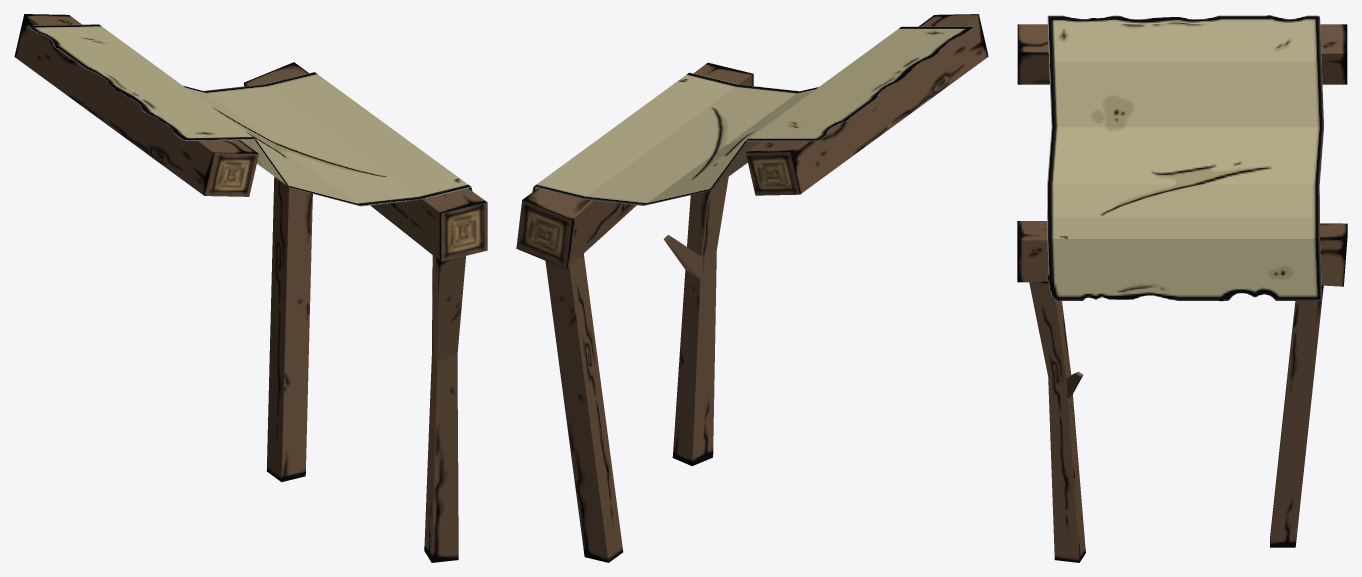
Rendered from zadaszenie1.fbx.
3 views of the same model, side by side, from view 1: azimuth 30°, elevation 25°; view 2: azimuth 150°, elevation 25°; view 3: azimuth 270°, elevation 25° (orthographic). The views are drawn at different scales.
Visible parts, largest first — view 1: Cube.018; view 2: Cube.018; view 3: Cube.018.
Part boxes in pixels (bbox=[...]): Cube.018: bbox=[14, 14, 487, 562]; Cube.018: bbox=[516, 14, 988, 562]; Cube.018: bbox=[1017, 15, 1347, 562].
Size of the model in its own units: 189 by 291 by 204.
Materials: 2 (2 with a texture image).
